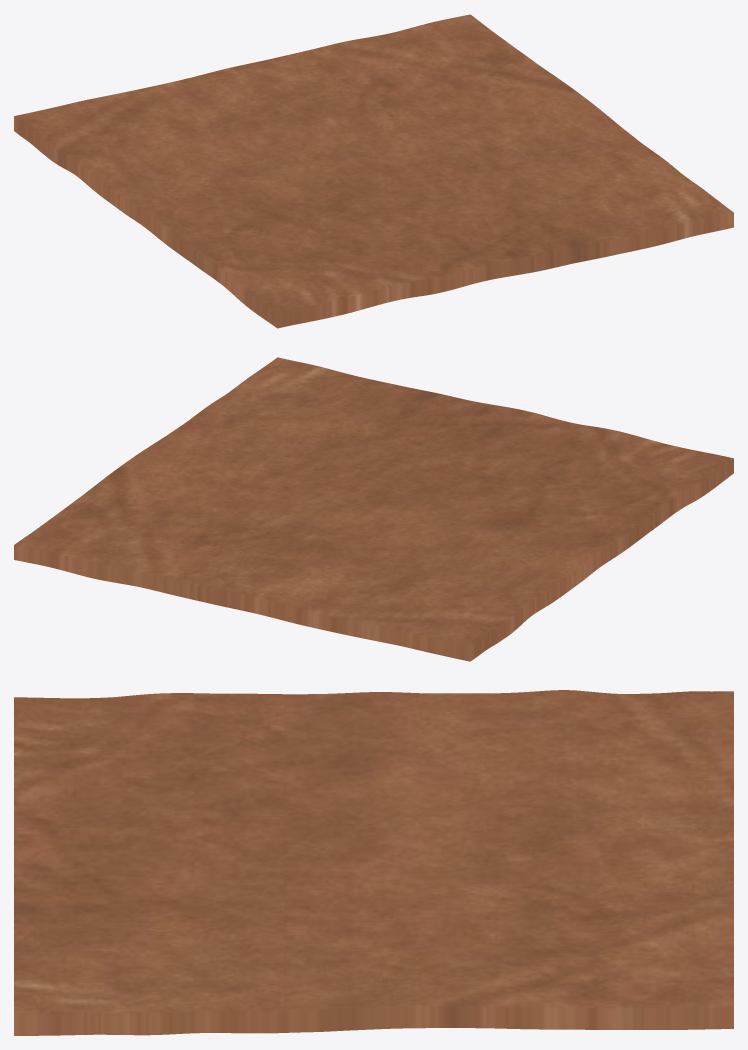
3 renders of one model, top to bottom at view 1: azimuth 30°, elevation 25°; view 2: azimuth 150°, elevation 25°; view 3: azimuth 270°, elevation 25°, orthographic. The views are drawn at different scales.
Parts seen in each view (by area): view 1: L8_99_103; view 2: L8_99_103; view 3: L8_99_103.
Part boxes in pixels (left/top/right/bottom): L8_99_103: left=14, top=14, right=733, bottom=328; L8_99_103: left=14, top=357, right=733, bottom=661; L8_99_103: left=14, top=690, right=733, bottom=1035.
Size of the model in its own units: 56.28 by 3.61 by 56.29.
1 material, 1 textured.
